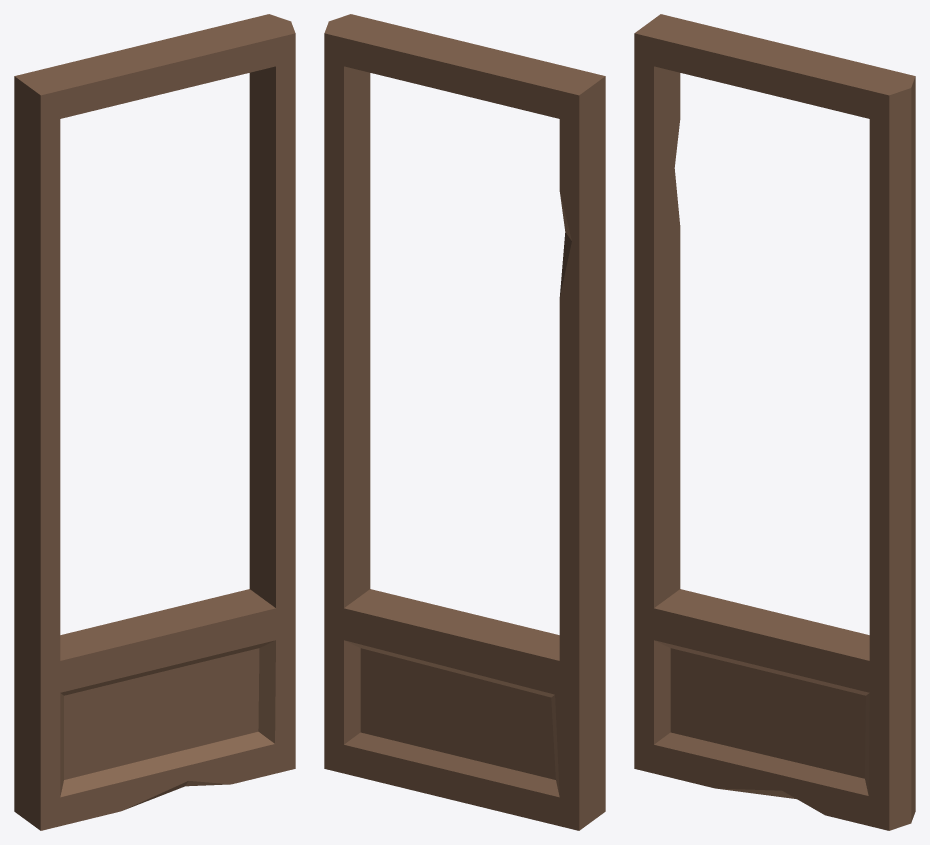
The model's file is SM_Bld_Village_Window_Fold_R_01.fbx.
3 renders of one model, left to right at view 1: azimuth 30°, elevation 25°; view 2: azimuth 150°, elevation 25°; view 3: azimuth 330°, elevation 25°, orthographic.
Visible parts, largest first — view 1: SM_Bld_Village_Window_Fold_R_01; view 2: SM_Bld_Village_Window_Fold_R_01; view 3: SM_Bld_Village_Window_Fold_R_01.
Part boxes in pixels (box(x1,y1,x2,y2)): SM_Bld_Village_Window_Fold_R_01: box(14, 14, 295, 830); SM_Bld_Village_Window_Fold_R_01: box(324, 14, 605, 830); SM_Bld_Village_Window_Fold_R_01: box(634, 14, 915, 830).
Bounding box in the file's own units: 51.01 × 136 × 8.84.
